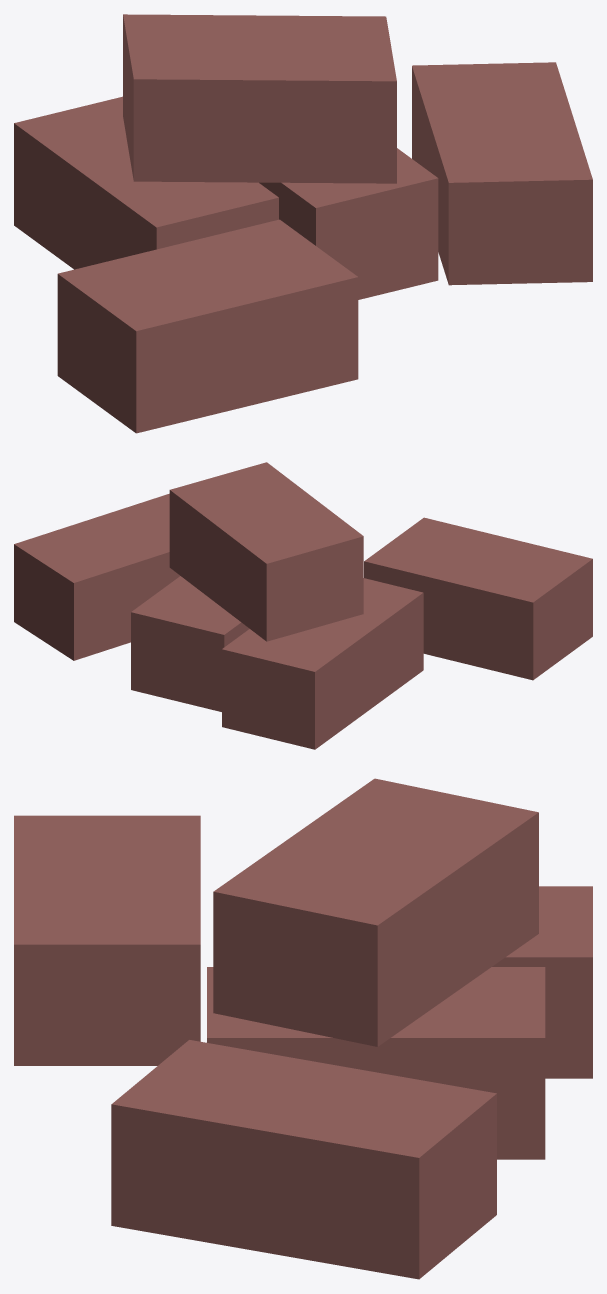
The model's file is SM_Bricks_02.fbx.
The picture shows the model from 3 angles, top to bottom: view 1: azimuth 30°, elevation 25°; view 2: azimuth 150°, elevation 25°; view 3: azimuth 270°, elevation 25°; orthographic projection. The views are drawn at different scales.
Parts seen in each view (by area): view 1: Bricks 2; view 2: Bricks 2; view 3: Bricks 2.
Boxes of the visible parts, box(x1,y1,x2,y2) form: Bricks 2: box(14, 14, 592, 433); Bricks 2: box(14, 462, 592, 749); Bricks 2: box(14, 778, 592, 1279).
Bounding box in the file's own units: 89.93 × 30.08 × 64.31.
